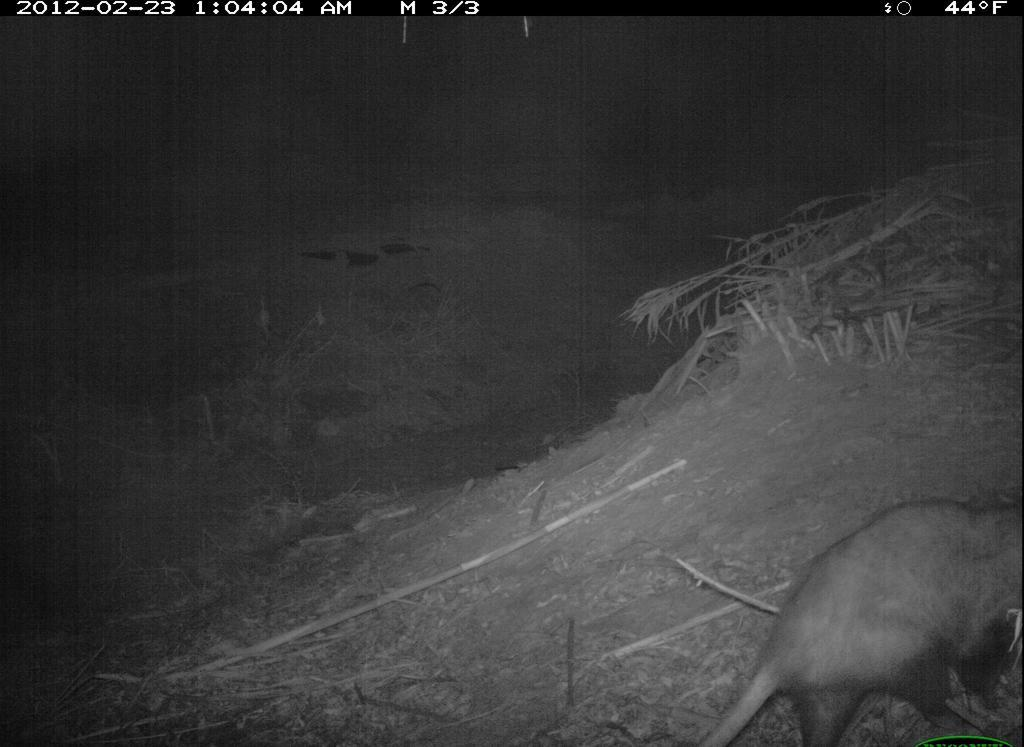opossum: (675, 475, 1018, 745)
